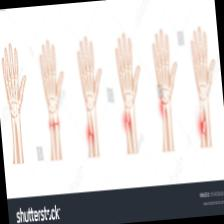closed-simple-fracture: (33, 15, 224, 165)
